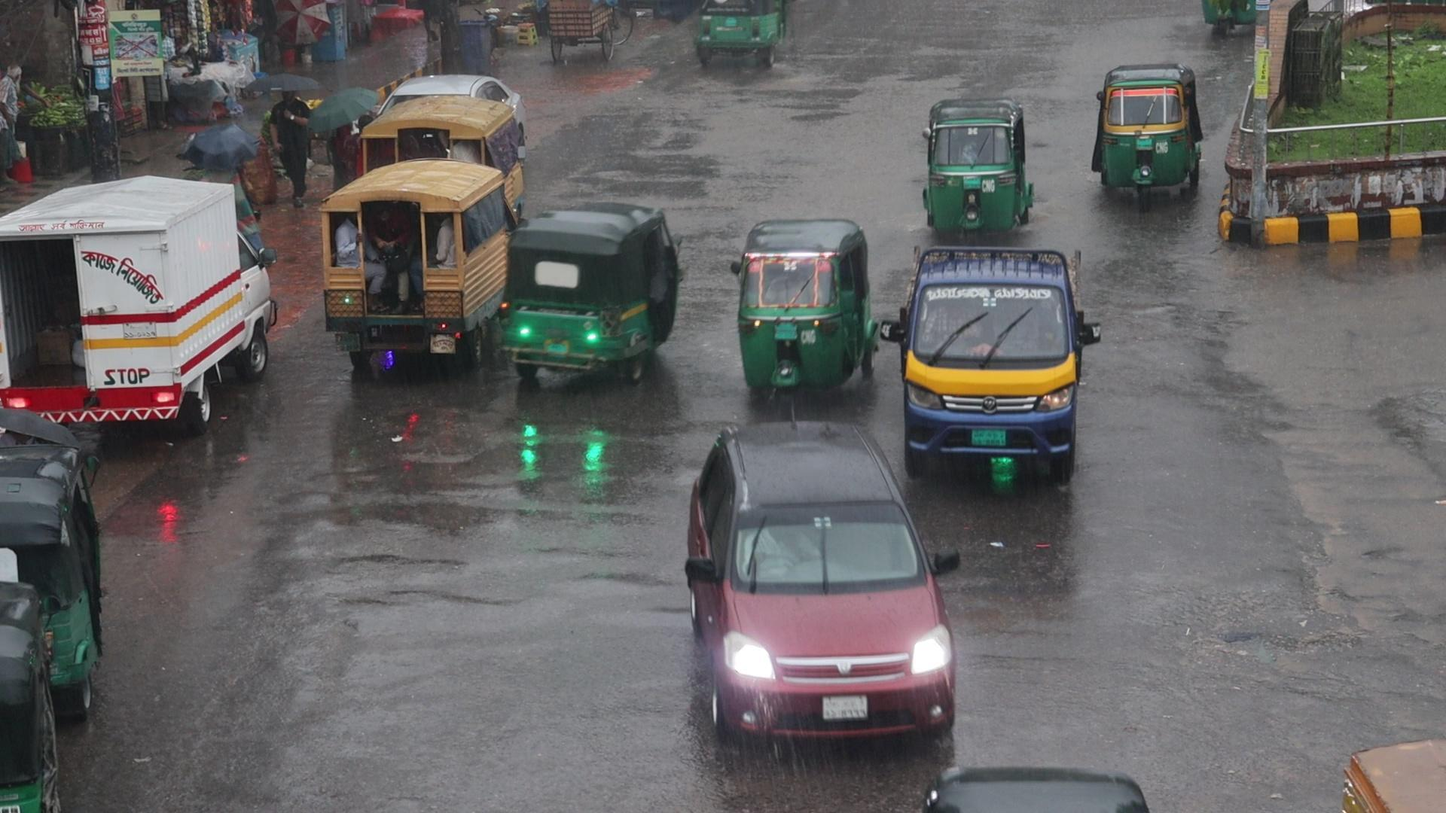Car: (678, 422, 962, 763)
Truck: (309, 155, 522, 384), (903, 246, 1083, 502)
